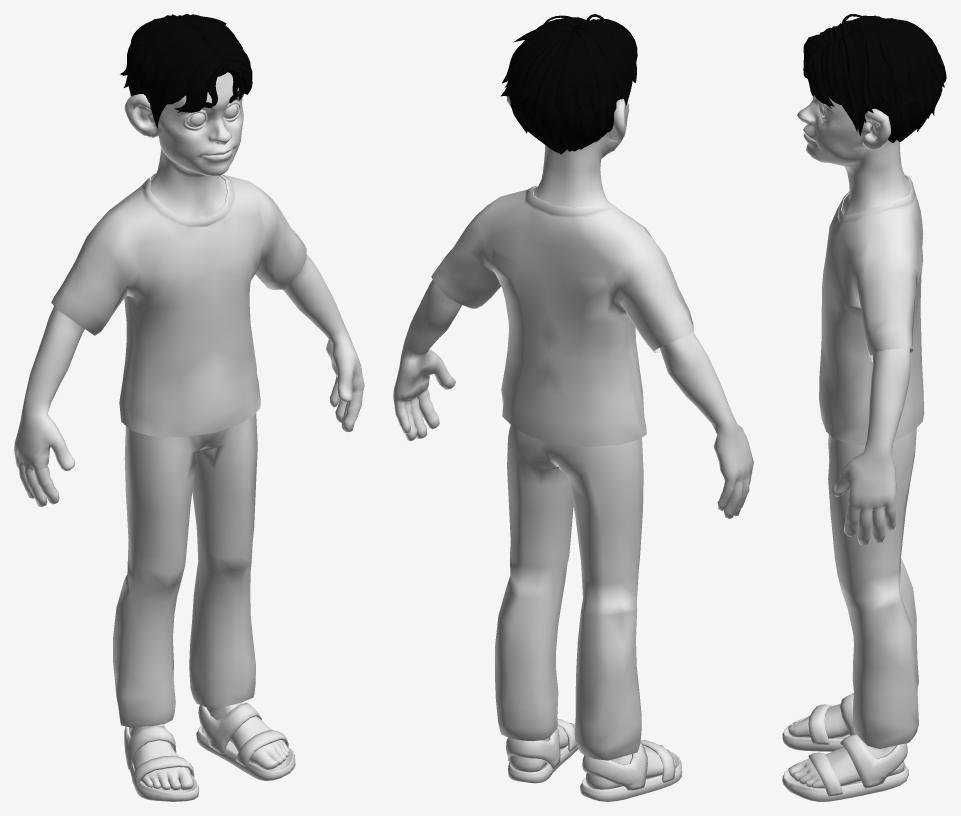
Rendered from hero_Gamejam.fbx.
3 renders of one model, left to right at view 1: azimuth 30°, elevation 25°; view 2: azimuth 150°, elevation 25°; view 3: azimuth 270°, elevation 25°, orthographic. The views are drawn at different scales.
Visible parts, largest first — view 1: T_shirt_LP, Pants_LP, GEO-body_stylized_LP, Hair.001, slippers_LP; view 2: T_shirt_LP, Pants_LP, GEO-body_stylized_LP, Hair.001, slippers_LP; view 3: T_shirt_LP, GEO-body_stylized_LP, Pants_LP, Hair.001, slippers_LP.
Boxes of the visible parts, bbox=[...] form: T_shirt_LP: bbox=[51, 172, 306, 437]; Pants_LP: bbox=[113, 413, 257, 727]; GEO-body_stylized_LP: bbox=[14, 72, 364, 790]; Hair.001: bbox=[120, 14, 252, 128]; slippers_LP: bbox=[124, 702, 295, 801]; T_shirt_LP: bbox=[431, 185, 693, 446]; Pants_LP: bbox=[495, 425, 643, 760]; GEO-body_stylized_LP: bbox=[393, 96, 753, 789]; Hair.001: bbox=[500, 14, 637, 154]; slippers_LP: bbox=[506, 719, 682, 801]; T_shirt_LP: bbox=[819, 174, 924, 445]; GEO-body_stylized_LP: bbox=[788, 84, 910, 788]; Pants_LP: bbox=[828, 428, 918, 748]; Hair.001: bbox=[803, 14, 946, 142]; slippers_LP: bbox=[782, 693, 908, 801].
Size of the model in its own units: 87.95 by 185 by 36.97.
